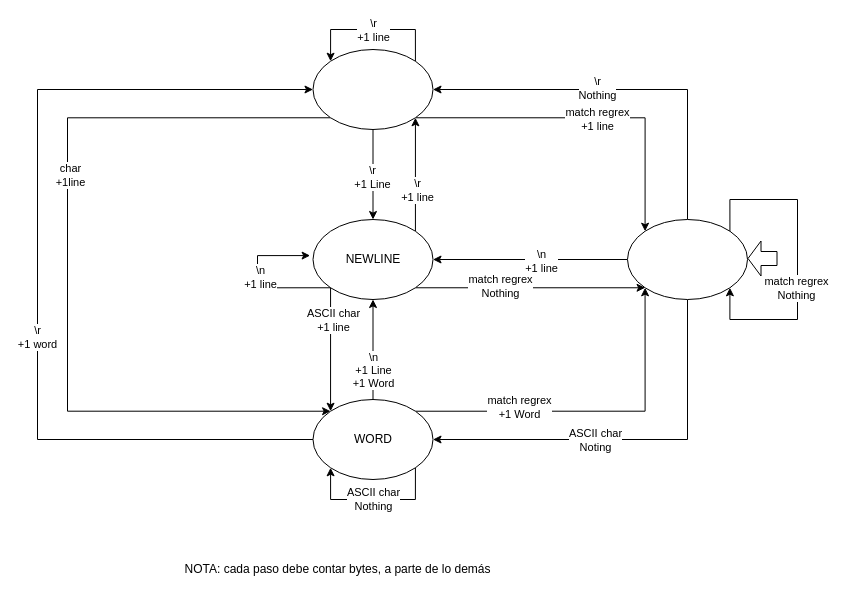
Some shapes in this 845 by 597 pixel diagram are drawn without their labels. Here are the shapes that lost their labels. From the top down, the box of each, then its label:
(312, 48, 433, 130): CARRIAGE
(626, 218, 748, 300): NIL
